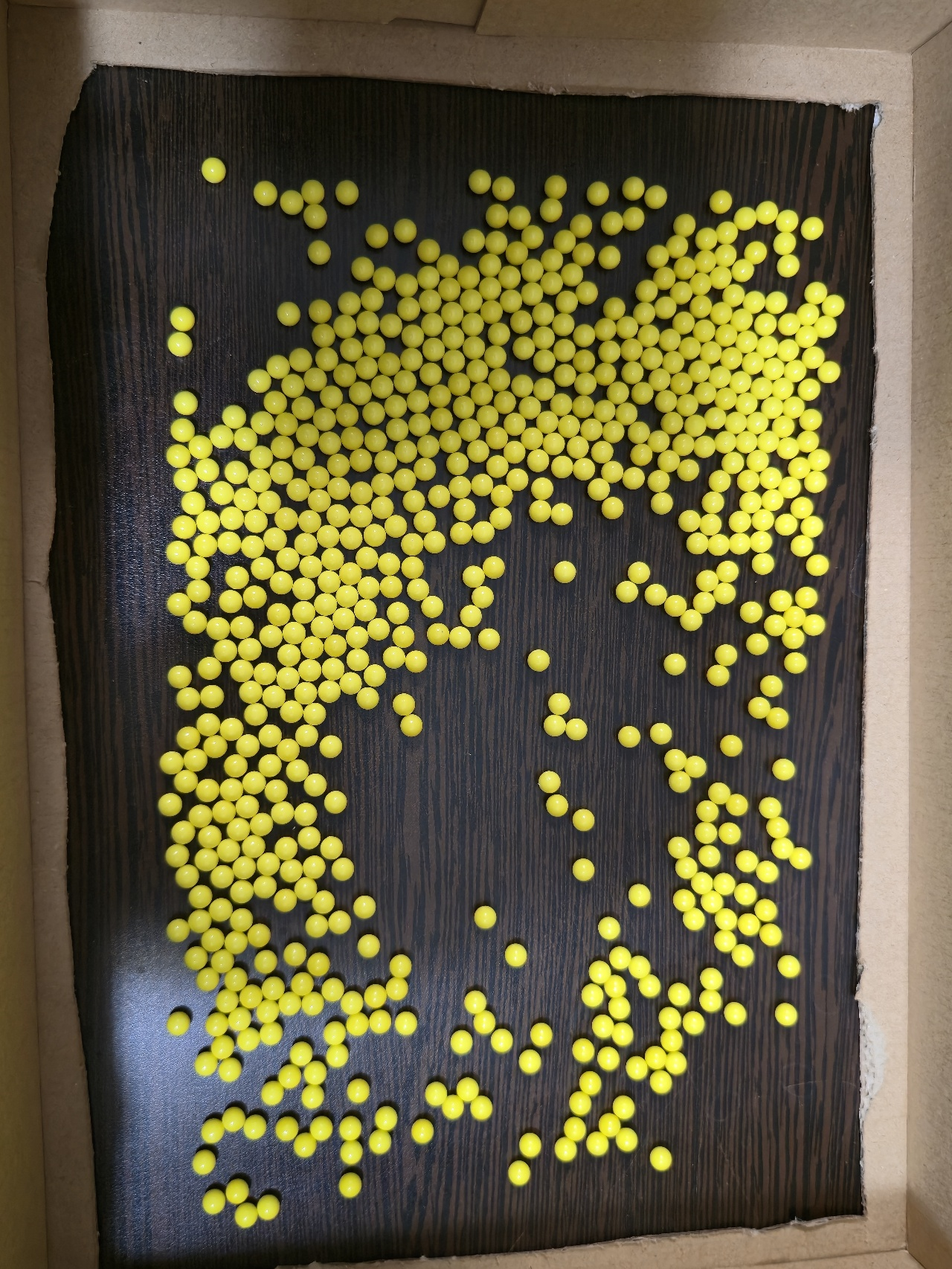yellow_bead: (777, 844, 807, 864), (176, 312, 189, 326), (238, 861, 251, 874), (172, 546, 185, 559), (199, 539, 212, 552), (187, 497, 200, 510), (239, 493, 252, 506), (172, 450, 185, 463), (194, 441, 207, 454), (239, 433, 252, 446), (176, 424, 189, 437), (524, 1055, 536, 1069), (295, 1047, 307, 1061), (400, 1017, 412, 1031), (587, 989, 599, 1003), (243, 643, 257, 655), (225, 512, 239, 524), (179, 474, 193, 486), (456, 1035, 467, 1050), (380, 1112, 392, 1125), (462, 1083, 474, 1096), (730, 1007, 742, 1020), (267, 983, 280, 995), (737, 949, 749, 962), (195, 890, 207, 903), (739, 888, 752, 900), (216, 870, 228, 883), (171, 849, 184, 861), (222, 844, 235, 856), (280, 842, 292, 855), (177, 826, 190, 838), (194, 810, 207, 822), (241, 800, 253, 813), (270, 785, 283, 797), (180, 775, 193, 787), (165, 756, 178, 768), (264, 730, 277, 742), (206, 690, 219, 702), (173, 671, 186, 683), (189, 616, 202, 628), (173, 598, 185, 611), (192, 585, 205, 597), (275, 576, 288, 588), (247, 541, 260, 553), (223, 537, 236, 549), (202, 516, 215, 528), (250, 515, 263, 527), (216, 486, 228, 499), (253, 475, 266, 487), (812, 454, 825, 466), (801, 331, 814, 343), (806, 222, 818, 235), (263, 1201, 274, 1215), (514, 1166, 525, 1180), (655, 1152, 666, 1166), (431, 1088, 442, 1102), (631, 1061, 642, 1075), (496, 1034, 507, 1048), (375, 1015, 386, 1029), (284, 997, 295, 1011), (327, 983, 338, 997), (817, 321, 831, 332), (309, 1067, 321, 1079), (242, 1034, 254, 1046), (329, 1027, 341, 1039), (688, 1017, 700, 1029), (664, 1012, 676, 1024), (780, 1009, 792, 1021), (346, 997, 358, 1009), (674, 989, 686, 1001), (230, 974, 242, 986), (706, 973, 718, 985), (634, 961, 646, 973), (783, 960, 795, 972), (216, 956, 228, 968), (190, 953, 202, 965), (289, 948, 301, 960), (311, 920, 323, 932), (743, 919, 755, 931), (720, 913, 732, 925), (688, 913, 700, 925), (215, 904, 227, 916), (280, 894, 292, 906), (634, 890, 646, 902), (300, 883, 312, 895), (259, 881, 271, 893), (718, 878, 730, 890), (181, 870, 193, 882), (762, 866, 774, 878), (200, 854, 212, 866), (303, 832, 315, 844), (204, 831, 216, 843), (232, 823, 244, 835), (256, 818, 268, 830), (277, 807, 289, 819), (164, 799, 176, 811), (329, 796, 341, 808), (309, 779, 321, 791), (264, 759, 276, 771), (300, 730, 312, 742), (309, 708, 321, 720), (245, 686, 257, 698), (236, 665, 248, 677), (283, 649, 295, 661), (236, 621, 248, 633), (225, 596, 237, 608), (298, 583, 310, 595), (323, 576, 335, 588), (257, 562, 269, 574), (305, 561, 317, 573), (282, 553, 294, 565), (361, 552, 373, 564), (322, 530, 334, 542), (178, 521, 190, 533), (419, 515, 431, 527), (304, 515, 316, 527), (263, 496, 275, 508), (292, 483, 304, 495), (454, 481, 466, 493), (231, 466, 243, 478), (419, 463, 431, 475), (727, 457, 739, 469), (509, 418, 521, 430), (228, 411, 240, 423), (767, 402, 779, 414), (269, 396, 281, 408), (254, 375, 266, 387), (808, 352, 820, 364), (782, 344, 794, 356), (810, 287, 822, 299), (782, 260, 794, 272), (779, 237, 791, 249), (761, 207, 773, 219), (560, 1143, 571, 1156), (525, 1139, 536, 1152), (592, 1138, 603, 1151), (476, 1102, 487, 1115), (618, 1101, 629, 1114), (353, 1085, 364, 1098), (578, 1045, 589, 1058), (536, 1029, 547, 1042), (617, 1028, 628, 1041), (479, 1016, 490, 1029), (510, 949, 521, 962), (363, 939, 374, 952), (604, 922, 615, 935), (337, 863, 348, 876), (225, 784, 238, 795), (202, 784, 213, 797), (225, 723, 238, 734), (182, 693, 195, 704), (755, 536, 768, 547), (780, 519, 793, 530), (313, 495, 326, 506), (275, 467, 288, 478), (255, 452, 268, 463), (191, 564, 205, 574), (621, 1134, 632, 1146), (655, 1076, 666, 1088), (217, 1042, 229, 1053), (705, 996, 717, 1007), (221, 996, 233, 1007), (644, 980, 655, 992), (610, 980, 621, 992), (202, 974, 213, 986), (594, 966, 605, 978), (260, 956, 271, 968), (207, 934, 219, 945), (173, 925, 184, 937), (334, 916, 345, 928), (480, 911, 491, 923), (760, 905, 772, 916), (359, 901, 370, 913), (706, 896, 718, 907), (318, 896, 329, 908), (236, 887, 248, 898), (286, 865, 298, 876), (578, 864, 589, 876), (309, 861, 320, 873), (263, 858, 274, 870), (742, 855, 753, 867), (704, 850, 715, 862), (326, 842, 337, 854), (300, 809, 312, 820), (292, 765, 303, 777), (231, 759, 242, 771), (242, 740, 254, 751), (202, 719, 214, 730), (250, 709, 262, 720), (554, 698, 565, 710), (369, 670, 381, 681), (259, 668, 271, 679), (304, 665, 316, 676), (204, 662, 216, 673), (352, 655, 364, 666), (316, 621, 328, 632), (338, 613, 350, 624), (298, 606, 309, 618), (359, 605, 371, 616), (320, 599, 332, 610), (341, 591, 353, 602), (363, 582, 374, 594), (344, 568, 356, 579), (812, 560, 824, 571), (327, 553, 338, 565), (300, 539, 312, 550), (692, 538, 704, 549), (429, 536, 440, 548), (345, 533, 357, 544), (269, 533, 281, 544), (806, 521, 818, 532), (390, 521, 402, 532), (684, 515, 696, 526), (280, 513, 292, 524), (356, 510, 367, 522), (332, 510, 344, 521), (796, 502, 808, 513), (408, 495, 419, 507), (434, 490, 445, 502), (594, 483, 605, 495), (332, 483, 344, 494), (477, 479, 488, 491), (399, 474, 411, 485), (579, 463, 590, 475), (794, 463, 806, 474), (380, 456, 392, 467), (752, 455, 764, 466), (802, 436, 814, 447), (777, 421, 789, 432), (257, 417, 268, 429), (805, 414, 817, 425), (788, 402, 800, 413), (298, 402, 309, 414), (803, 384, 815, 395), (776, 383, 788, 394), (287, 380, 299, 391), (768, 363, 779, 375), (272, 362, 284, 373), (747, 358, 759, 369), (428, 344, 440, 355), (771, 297, 782, 309), (750, 247, 762, 258), (740, 213, 751, 225), (261, 1008, 274, 1018), (615, 952, 625, 965), (219, 645, 232, 655), (800, 592, 813, 602), (733, 539, 746, 549), (266, 1089, 277, 1100), (266, 1029, 277, 1040), (614, 1003, 625, 1014), (391, 984, 402, 995), (720, 936, 731, 947), (194, 916, 205, 927), (679, 895, 690, 906), (681, 862, 692, 873), (674, 842, 685, 853), (578, 815, 589, 826), (714, 788, 725, 799), (544, 777, 555, 788), (779, 764, 790, 775), (690, 761, 701, 772), (670, 754, 681, 765), (624, 731, 635, 742), (655, 728, 666, 739), (571, 724, 582, 735), (362, 693, 373, 704), (324, 686, 335, 697), (345, 678, 356, 689), (713, 670, 724, 681), (533, 655, 544, 666), (721, 650, 732, 661), (373, 623, 384, 634), (770, 620, 781, 631), (686, 615, 697, 626), (393, 608, 404, 619), (670, 600, 681, 611), (699, 597, 710, 608), (719, 588, 730, 599), (622, 586, 633, 597), (413, 584, 424, 595), (722, 566, 733, 577), (714, 539, 725, 550), (456, 527, 467, 538), (478, 527, 489, 538), (705, 519, 716, 530), (459, 504, 470, 515), (376, 502, 387, 513), (707, 497, 718, 508), (767, 495, 778, 506), (356, 487, 367, 498), (537, 483, 548, 494), (512, 474, 523, 485), (628, 472, 639, 483), (607, 466, 618, 477), (492, 461, 503, 472), (533, 455, 544, 466), (298, 452, 309, 463), (597, 446, 608, 457), (509, 446, 520, 457), (783, 443, 794, 454), (763, 436, 774, 447), (302, 429, 313, 440), (731, 417, 742, 428), (319, 414, 330, 425), (525, 402, 536, 413), (757, 383, 768, 394), (377, 381, 388, 392), (400, 376, 411, 387), (310, 374, 321, 385), (426, 368, 437, 379), (823, 367, 834, 378), (742, 336, 753, 347), (283, 309, 294, 320), (749, 297, 760, 308), (425, 295, 436, 306), (728, 290, 739, 301), (331, 1053, 343, 1063), (767, 929, 777, 941), (724, 828, 736, 838), (190, 754, 202, 764), (327, 664, 339, 674), (669, 659, 681, 669), (790, 658, 802, 668), (483, 634, 495, 644), (788, 633, 800, 643), (808, 620, 820, 630), (757, 559, 769, 569), (383, 559, 395, 569), (369, 530, 381, 540), (757, 515, 769, 525), (810, 477, 822, 487), (277, 442, 289, 452), (325, 437, 335, 449), (390, 401, 402, 411), (448, 356, 460, 366), (763, 341, 773, 353), (428, 318, 438, 330), (827, 301, 839, 311), (723, 227, 733, 239), (286, 198, 298, 208), (370, 989, 379, 1002), (248, 591, 261, 600), (183, 396, 192, 409), (231, 938, 242, 948), (236, 914, 247, 924), (697, 878, 707, 889), (701, 828, 712, 838), (702, 806, 713, 816), (765, 803, 776, 813), (552, 800, 562, 811), (675, 777, 686, 787), (727, 740, 737, 751), (755, 702, 765, 713), (399, 699, 409, 710), (752, 639, 763, 649), (466, 611, 476, 622), (746, 607, 757, 617), (427, 601, 438, 611), (776, 596, 787, 606), (651, 589, 661, 600), (702, 576, 713, 586), (634, 568, 645, 578), (489, 562, 499, 573), (407, 562, 418, 572), (797, 541, 808, 551), (735, 516, 745, 527), (536, 506, 546, 517), (657, 498, 667, 509), (377, 479, 388, 489), (653, 476, 664, 486), (744, 475, 754, 486), (557, 461, 567, 472), (453, 458, 463, 469), (664, 456, 675, 466), (473, 446, 483, 457), (742, 437, 752, 448), (370, 436, 381, 446), (527, 433, 538, 443), (609, 426, 619, 437), (393, 424, 403, 435), (691, 420, 701, 431), (542, 417, 553, 427), (710, 413, 721, 423), (369, 408, 379, 419), (556, 399, 567, 409), (742, 398, 752, 409), (662, 396, 672, 407), (413, 396, 423, 407), (700, 388, 711, 398), (356, 388, 366, 399), (655, 374, 665, 385), (715, 372, 726, 382), (540, 355, 550, 366), (295, 355, 306, 365), (322, 353, 332, 364), (491, 351, 501, 362), (347, 344, 357, 355), (520, 342, 530, 353), (469, 342, 480, 352), (448, 332, 459, 342), (408, 330, 418, 341), (340, 321, 350, 332), (559, 319, 569, 330), (363, 317, 373, 328), (715, 272, 726, 282), (721, 250, 731, 261), (782, 216, 793, 226), (347, 1180, 356, 1192), (249, 1122, 261, 1131), (672, 1058, 681, 1070), (397, 960, 406, 972), (248, 843, 260, 852), (772, 823, 784, 832), (282, 744, 294, 753), (268, 694, 280, 703), (312, 472, 324, 481), (425, 440, 434, 452), (219, 431, 228, 443), (178, 338, 187, 350), (469, 318, 478, 330), (212, 1021, 222, 1031), (254, 929, 264, 939), (767, 681, 777, 691), (411, 656, 421, 666), (560, 567, 570, 577), (608, 503, 618, 513), (715, 476, 725, 486), (684, 465, 694, 475), (573, 442, 583, 452), (679, 440, 689, 450), (721, 437, 731, 447), (654, 436, 664, 446), (446, 436, 456, 446), (634, 427, 644, 437), (587, 424, 597, 434), (483, 411, 493, 421), (327, 392, 337, 402), (540, 384, 550, 394), (518, 381, 528, 391), (581, 379, 591, 389), (628, 367, 638, 377), (695, 366, 705, 376), (640, 308, 650, 318), (661, 302, 671, 312), (507, 295, 517, 305), (467, 295, 477, 305), (582, 287, 592, 297), (528, 265, 538, 275), (701, 256, 711, 266), (492, 237, 502, 247), (345, 1125, 356, 1134), (173, 1018, 184, 1027), (299, 979, 308, 990), (406, 720, 417, 729), (289, 630, 300, 639), (433, 629, 444, 638), (791, 611, 800, 622), (407, 539, 418, 548), (496, 490, 507, 499), (333, 460, 344, 469), (402, 446, 411, 457), (701, 441, 710, 452), (550, 438, 559, 449), (565, 420, 574, 431), (416, 419, 425, 430), (669, 417, 678, 428), (342, 410, 353, 419), (623, 408, 632, 419), (722, 393, 731, 404), (474, 365, 483, 376), (363, 362, 372, 373), (408, 353, 417, 364), (728, 353, 737, 364), (707, 347, 716, 358), (645, 330, 654, 341), (581, 330, 590, 341), (738, 314, 747, 325), (405, 303, 414, 314), (548, 277, 557, 288), (425, 272, 434, 283), (573, 1123, 581, 1135), (248, 780, 260, 788), (300, 691, 312, 699), (282, 676, 294, 684), (265, 634, 277, 642), (231, 575, 243, 583), (206, 464, 214, 476), (562, 344, 570, 356), (209, 741, 222, 748), (449, 1104, 458, 1114), (219, 806, 229, 815), (733, 800, 742, 810), (357, 454, 367, 463), (614, 388, 623, 398), (670, 357, 679, 367), (370, 340, 379, 350), (540, 332, 549, 342), (701, 325, 710, 335), (624, 322, 633, 332), (386, 321, 396, 330), (718, 308, 727, 318), (346, 300, 356, 309), (563, 296, 572, 306), (529, 288, 538, 298), (402, 281, 412, 290), (674, 241, 683, 251), (702, 234, 712, 243), (630, 213, 639, 223), (718, 196, 727, 206), (652, 192, 661, 202), (199, 1158, 210, 1166), (318, 1125, 326, 1136), (575, 1101, 586, 1109), (330, 640, 341, 648), (477, 595, 488, 603), (495, 513, 506, 521), (684, 399, 692, 410), (562, 370, 570, 381), (450, 307, 458, 318), (678, 287, 686, 298), (570, 269, 578, 280), (312, 210, 320, 221), (374, 1138, 386, 1145), (325, 745, 337, 752), (286, 710, 298, 717), (454, 636, 466, 643), (351, 636, 363, 643), (280, 421, 292, 428), (750, 417, 762, 424), (496, 374, 505, 383), (606, 347, 615, 356), (666, 335, 675, 344), (495, 329, 504, 338), (661, 273, 670, 282), (654, 251, 663, 260), (309, 188, 318, 197), (588, 1079, 596, 1089), (248, 993, 256, 1003), (314, 958, 324, 966), (306, 642, 316, 650), (637, 449, 647, 457), (467, 424, 475, 434), (602, 405, 610, 415), (461, 402, 469, 412), (649, 353, 657, 363), (629, 344, 637, 354), (541, 308, 549, 318), (369, 294, 377, 304), (488, 283, 496, 293), (681, 220, 689, 230), (609, 218, 617, 228), (595, 188, 603, 198), (212, 168, 220, 178), (388, 656, 399, 663), (398, 631, 409, 638), (385, 582, 396, 589), (495, 432, 502, 443), (422, 1125, 428, 1137), (228, 1064, 236, 1073), (775, 713, 783, 722), (216, 626, 225, 634), (350, 432, 358, 441), (437, 391, 446, 399), (640, 388, 648, 397), (457, 379, 465, 388), (724, 330, 732, 339), (603, 324, 611, 333), (681, 318, 689, 327), (506, 272, 515, 280), (550, 257, 558, 266), (562, 237, 570, 246), (472, 236, 480, 245), (515, 213, 524, 221), (631, 184, 639, 193), (598, 1020, 608, 1027), (471, 996, 481, 1003), (469, 575, 479, 582), (688, 343, 695, 353), (700, 301, 707, 311), (448, 283, 455, 293), (608, 252, 615, 262), (286, 1073, 292, 1084), (603, 1052, 614, 1058), (234, 1015, 245, 1021), (556, 513, 567, 519), (504, 396, 510, 407), (521, 316, 527, 327), (800, 309, 806, 320), (387, 360, 395, 368), (530, 232, 538, 240), (344, 189, 352, 197), (478, 178, 486, 186), (234, 1189, 243, 1196), (669, 1038, 678, 1045), (354, 1022, 361, 1031), (602, 369, 611, 376), (321, 332, 328, 341), (645, 286, 652, 295), (383, 274, 390, 283), (317, 248, 324, 257), (402, 227, 411, 234), (700, 279, 706, 289), (489, 260, 495, 270), (211, 1197, 219, 1204), (653, 1055, 660, 1063), (440, 416, 447, 424), (581, 401, 588, 409), (317, 308, 325, 315), (468, 272, 475, 280), (361, 265, 368, 273), (446, 262, 453, 270), (579, 221, 586, 229), (549, 205, 556, 213), (307, 1093, 318, 1098), (481, 390, 487, 399), (344, 370, 350, 379), (550, 725, 560, 730), (582, 251, 589, 258), (496, 211, 503, 218), (279, 612, 285, 620), (681, 379, 687, 387), (614, 304, 620, 312), (346, 1149, 357, 1153), (745, 497, 756, 501), (491, 308, 497, 315), (428, 247, 434, 254), (585, 356, 590, 364), (207, 1125, 213, 1131), (312, 1000, 318, 1006), (769, 472, 776, 477), (739, 376, 746, 381), (764, 318, 771, 323), (504, 184, 509, 191), (556, 183, 561, 190), (788, 482, 796, 486), (200, 1059, 206, 1064), (376, 233, 382, 238), (240, 1212, 249, 1215), (611, 1125, 615, 1131), (208, 1061, 212, 1067), (794, 365, 800, 369), (742, 265, 748, 269), (518, 251, 522, 257), (268, 192, 271, 199), (784, 319, 788, 324), (686, 266, 690, 270), (212, 627, 215, 630), (273, 613, 276, 616), (790, 367, 793, 370), (760, 320, 763, 323), (267, 188, 270, 191), (216, 164, 219, 167), (228, 1117, 232, 1119), (237, 1119, 239, 1122), (186, 740, 190, 741), (182, 737, 184, 739), (784, 489, 785, 492), (759, 324, 760, 327), (794, 321, 797, 322), (263, 187, 266, 188), (786, 483, 788, 484), (785, 327, 786, 329), (765, 476, 766, 477), (216, 432, 217, 433), (185, 409, 186, 410), (737, 378, 738, 379), (791, 376, 792, 377), (761, 329, 762, 330), (790, 318, 791, 319), (261, 188, 262, 189), (212, 163, 213, 164), (222, 443, 222, 443), (808, 309, 809, 309), (739, 266, 739, 267)
